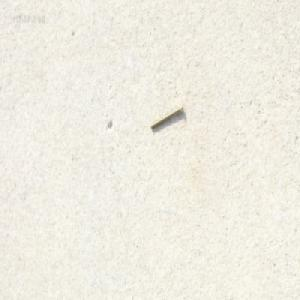Bolt: (149, 102, 183, 130)
